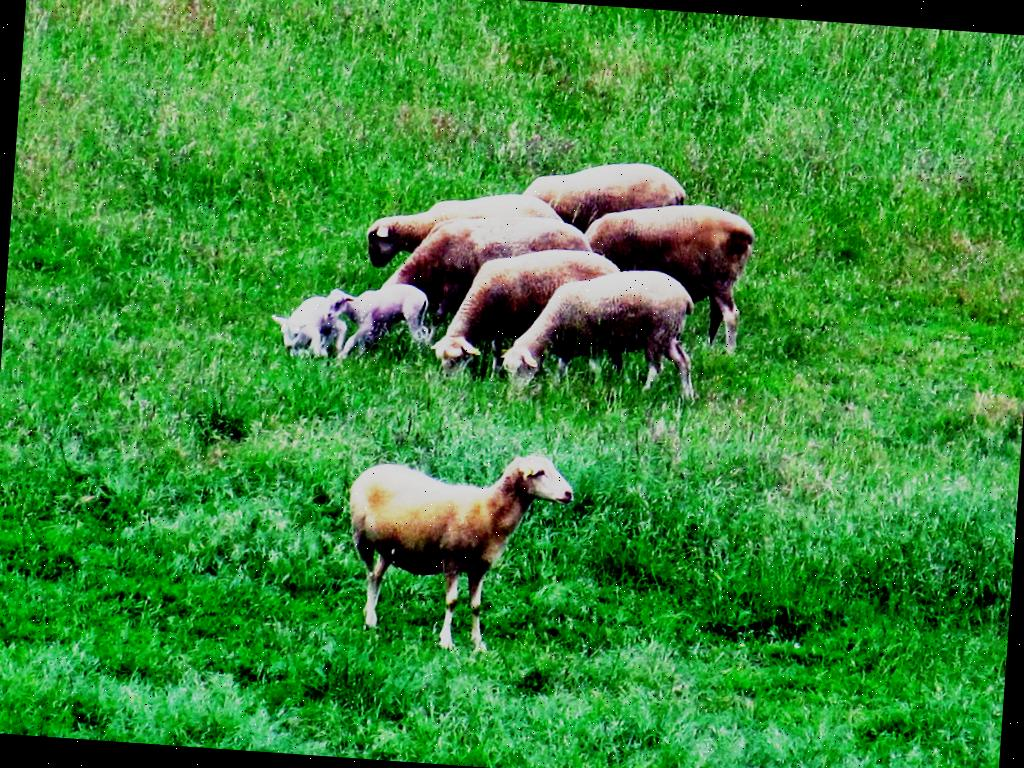Sheep: (318, 440, 600, 678), (498, 260, 706, 408), (575, 194, 758, 350), (433, 242, 624, 382), (386, 210, 588, 325), (362, 183, 581, 280), (323, 276, 436, 366), (266, 286, 352, 362)
